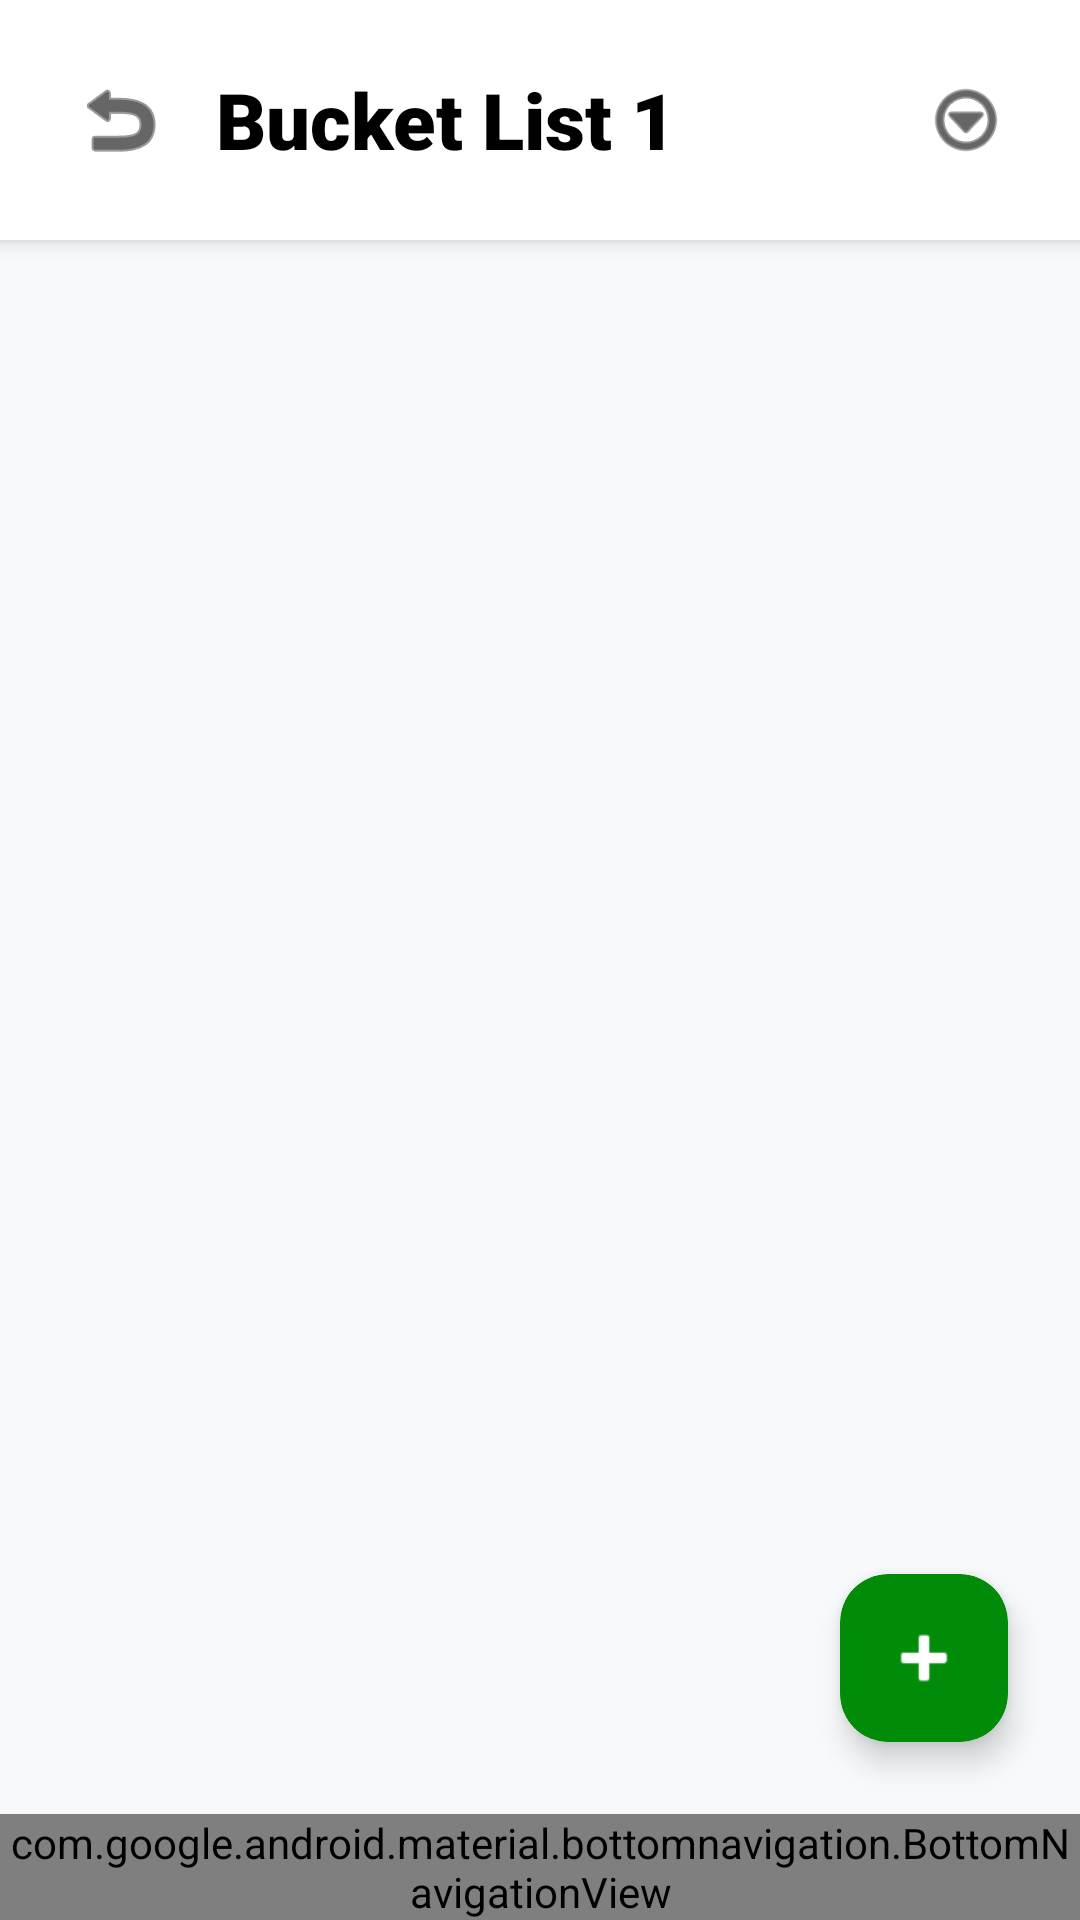

Locate icon controls on the screen. Image size 1080 x 1920, boxes as (x1, y1, x2, y2).
add: (900, 1634, 948, 1682)
more: (935, 89, 997, 151)
revert: (87, 89, 156, 152)
